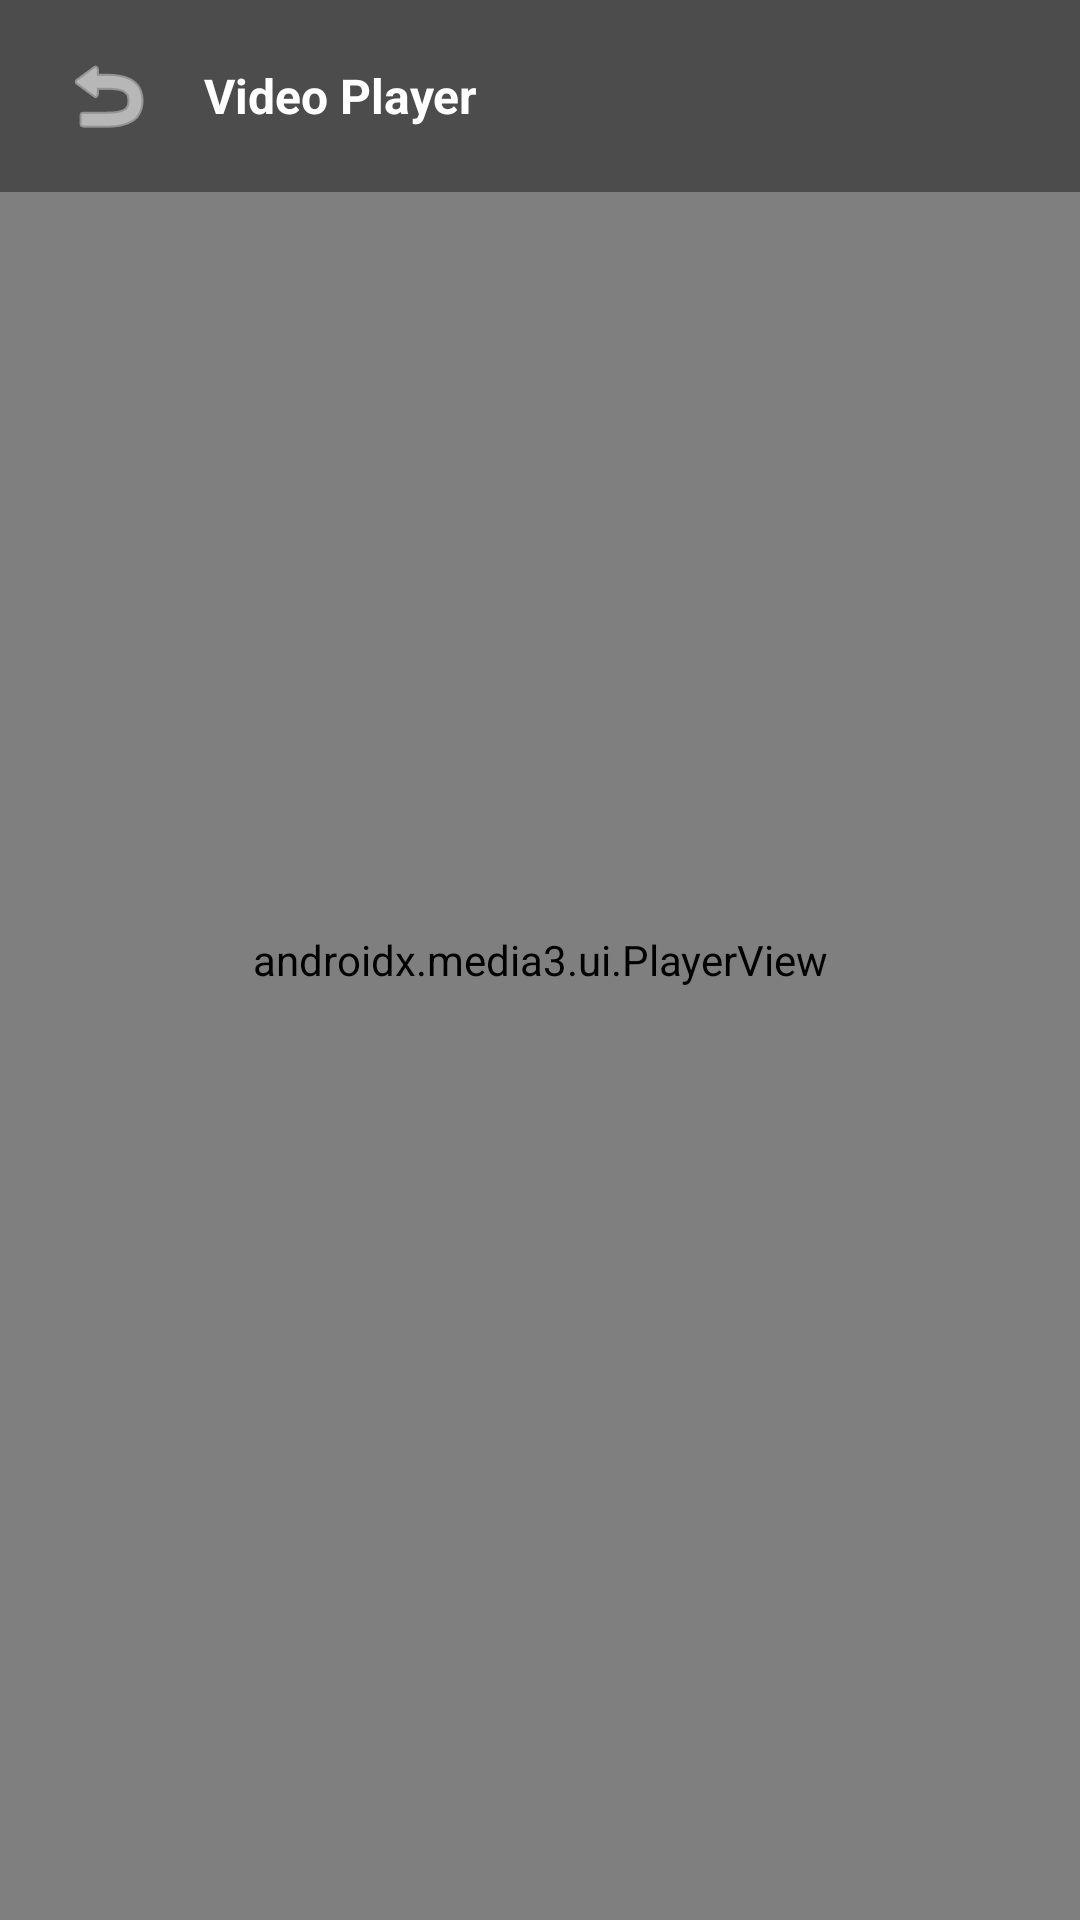

Icons on this 1080px×1920px Android screen, each with the point to tap as [x,y]:
بازگشت: [109,96]
